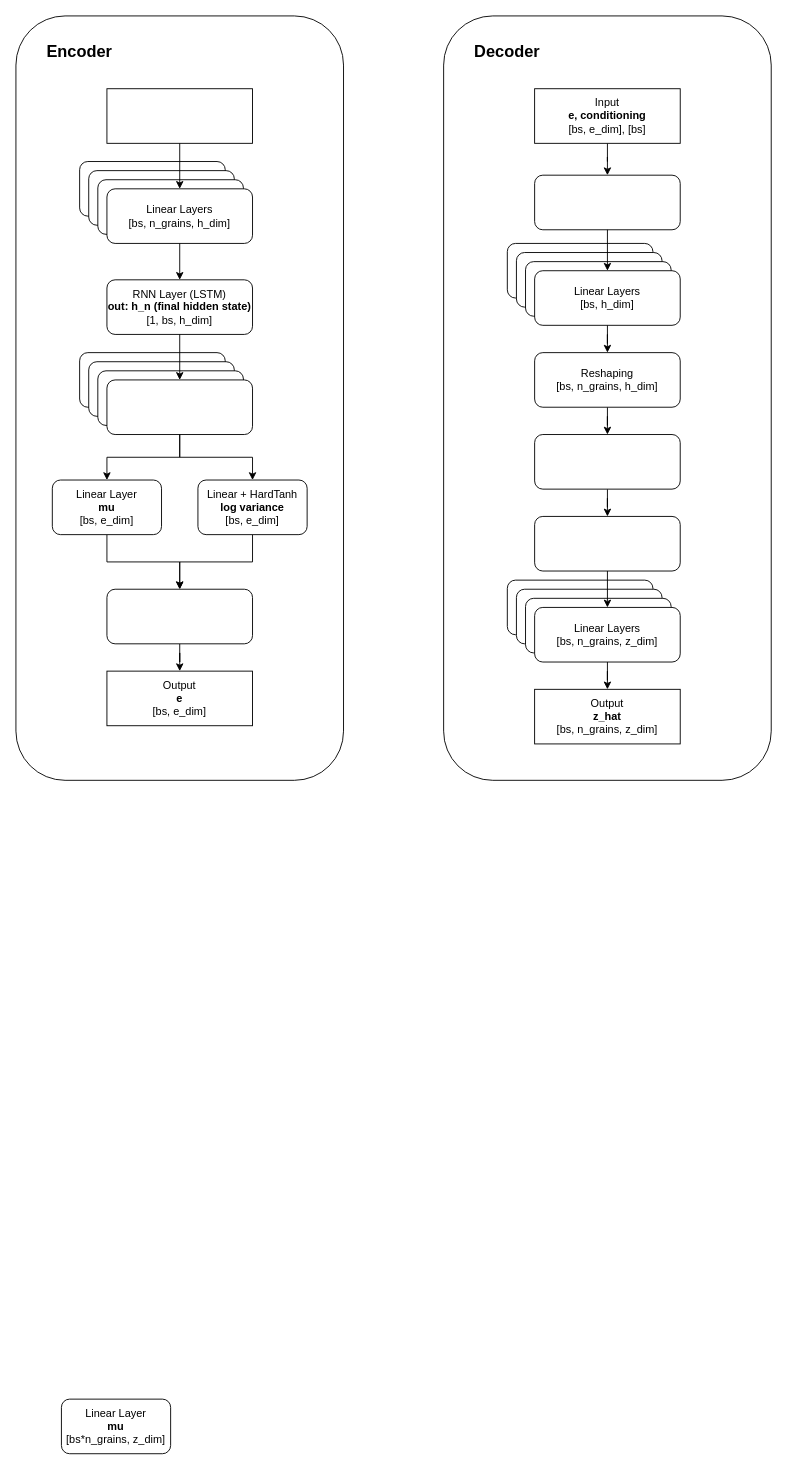
The diagram is 787 pixels wide and 1470 high, and some of its shapes have lost their labels. The centre of each missing label's shape, as x and y in pixels:
"Concatenate Inputs [bs, e_dim+n_conds]" belongs at (607,202).
"Concatenate w Conditioning [bs, n_grains, h_dim+n_conds]" belongs at (607,543).
"Input Latent batch [bs, n_grains, z_dim]" belongs at (179,115).
"Linear Layers [bs, e_dim]" belongs at (179,407).
"RNN Layer (LSTM) out: h (Output features) [bs, n_grains, h_dim]" belongs at (607,461).
"Sample from Distribution e [bs, e_dim]" belongs at (179,616).
